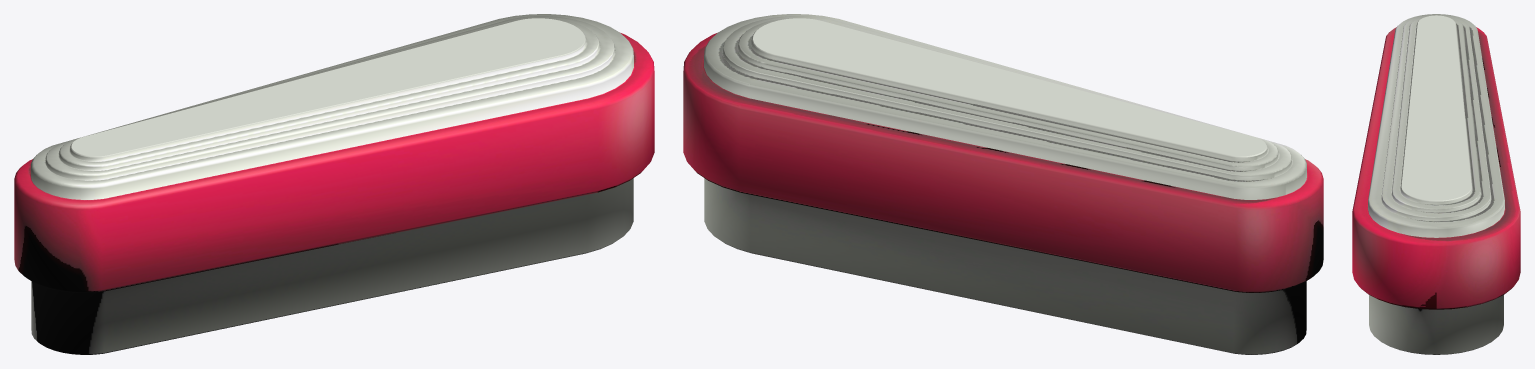
Rendered from Gottlieb Flipper.fbx.
3 views of the same model, side by side, from view 1: azimuth 30°, elevation 25°; view 2: azimuth 150°, elevation 25°; view 3: azimuth 270°, elevation 25° (orthographic). The views are drawn at different scales.
Parts seen in each view (by area): view 1: Gottlieb_Flipper; view 2: Gottlieb_Flipper; view 3: Gottlieb_Flipper.
Part boxes in pixels (x1,y1,x2,y2): Gottlieb_Flipper: (14,14,654,354); Gottlieb_Flipper: (683,14,1323,354); Gottlieb_Flipper: (1352,14,1520,354).
Bounding box in the file's own units: 8.24 × 2.36 × 2.58.
1 material, 1 textured.
